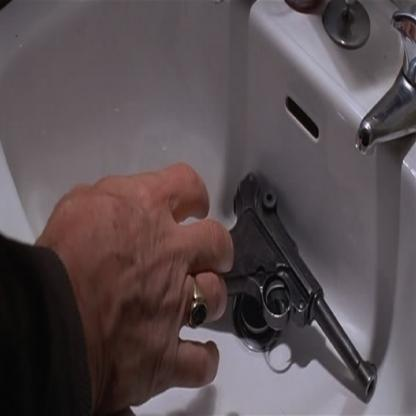gun: (226, 133, 396, 416)
